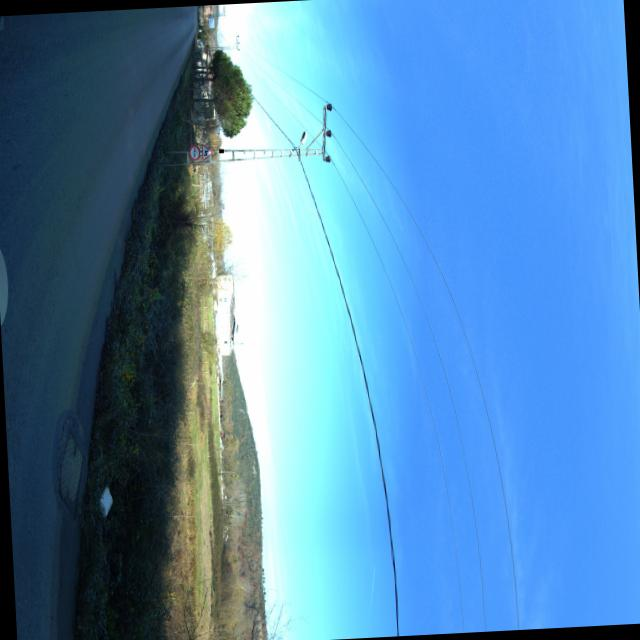Utility Pole Information Plate: (218, 150, 223, 153)
